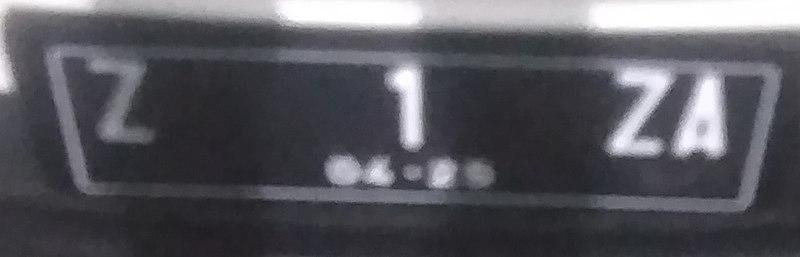1: (371, 66, 436, 154)
A: (675, 72, 740, 162)
Z: (74, 52, 164, 156), (601, 68, 672, 162)
